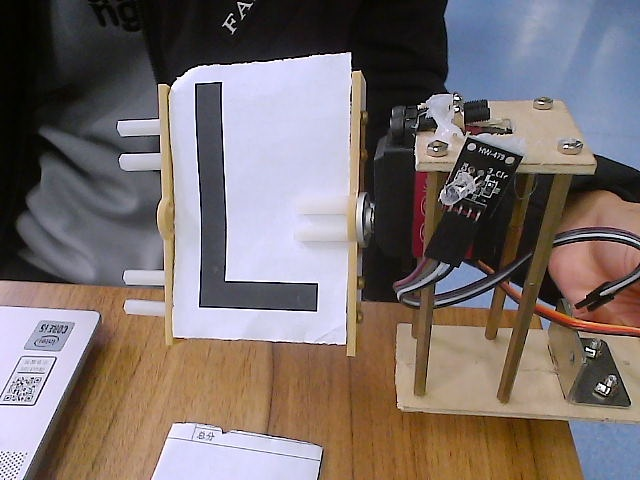L: (90, 28, 435, 386)
